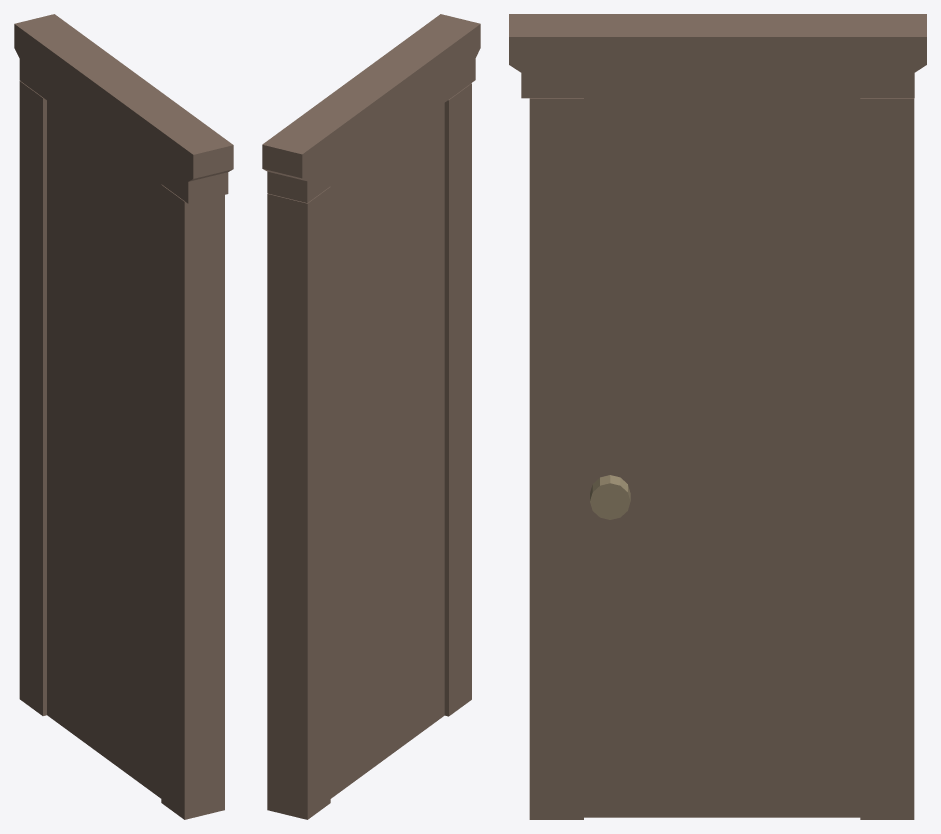
File: door.fbx
The picture shows the model from 3 angles, left to right: view 1: azimuth 30°, elevation 25°; view 2: azimuth 150°, elevation 25°; view 3: azimuth 270°, elevation 25°; orthographic projection. The views are drawn at different scales.
Parts seen in each view (by area): view 1: Cube.002, Cube.003; view 2: Cube.002, Cube.003; view 3: Cube.003, Cube.002, Cylinder.
Part boxes in pixels (x1,y1,x2,y2): Cube.002: (14,14,233,819); Cube.003: (47,100,161,798); Cube.002: (262,14,480,819); Cube.003: (330,103,444,798); Cube.003: (584,98,860,817); Cube.002: (509,14,926,819); Cylinder: (590,475,630,519).
Bounding box in the file's own units: 0.1635 × 2.07 × 1.
